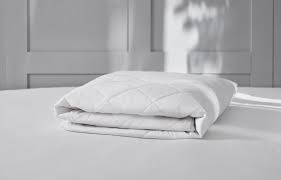bed-matress: (1, 82, 281, 180)
